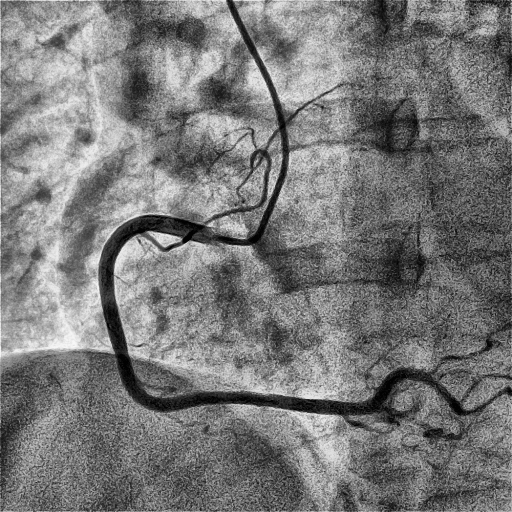pborca: (368, 368, 512, 415)
rca: (97, 214, 384, 416)
